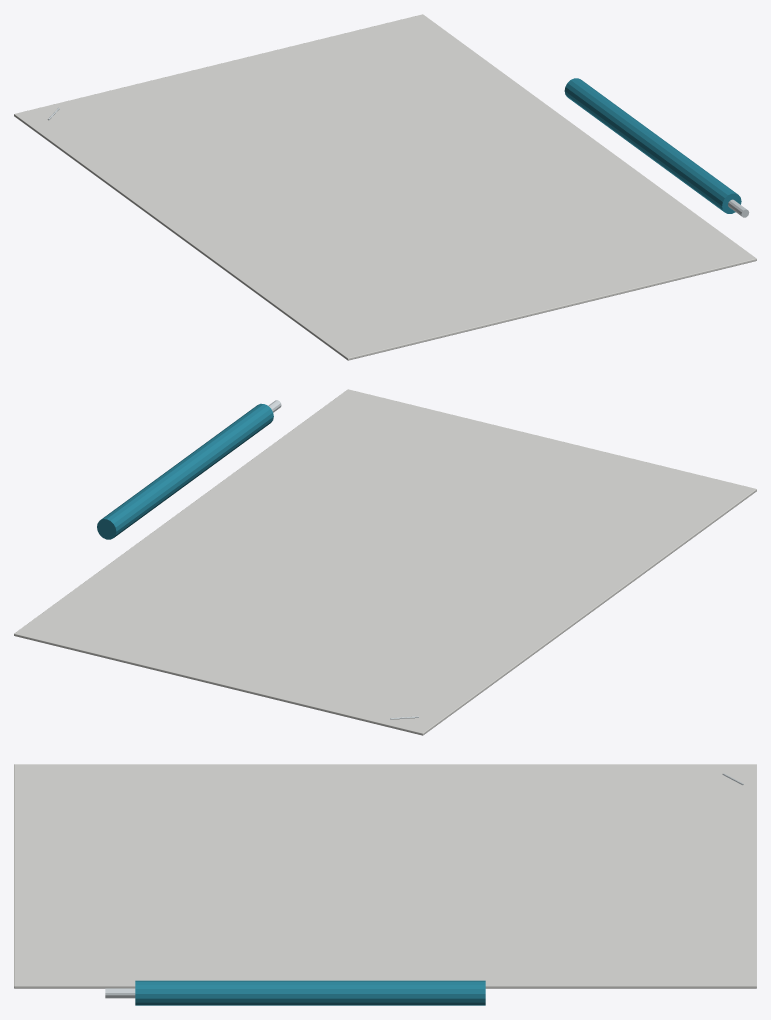
Rendered from consent_form.fbx.
3 views of the same model, one above another, from view 1: azimuth 30°, elevation 25°; view 2: azimuth 150°, elevation 25°; view 3: azimuth 270°, elevation 25° (orthographic). The views are drawn at different scales.
Parts seen in each view (by area): view 1: EQ_consent_form_Body, EQ_consent_form_Pen; view 2: EQ_consent_form_Body, EQ_consent_form_Pen; view 3: EQ_consent_form_Body, EQ_consent_form_Pen.
Boxes of the visible parts, x1,y1,x2,y2 form: EQ_consent_form_Body: (14, 14, 756, 360); EQ_consent_form_Pen: (564, 78, 741, 213); EQ_consent_form_Body: (14, 389, 756, 735); EQ_consent_form_Pen: (97, 403, 273, 539); EQ_consent_form_Body: (14, 764, 756, 988); EQ_consent_form_Pen: (135, 980, 485, 1005).
Bounding box in the file's own units: 0.23 × 0.01 × 0.297.
